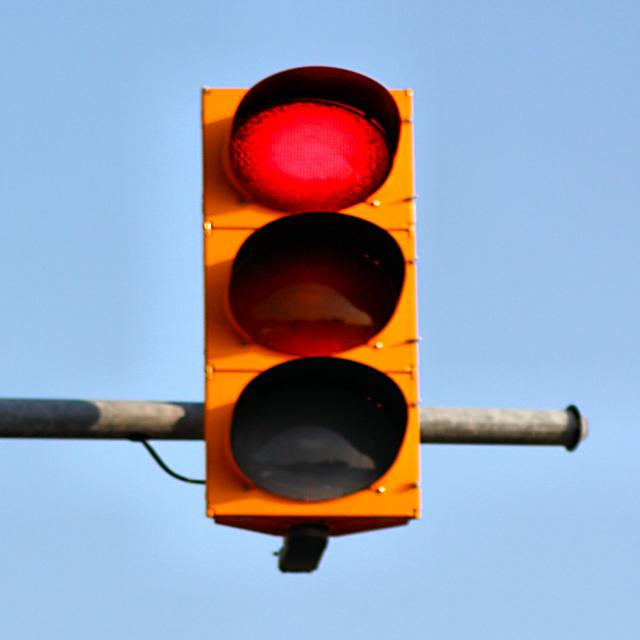red: (214, 89, 445, 239)
